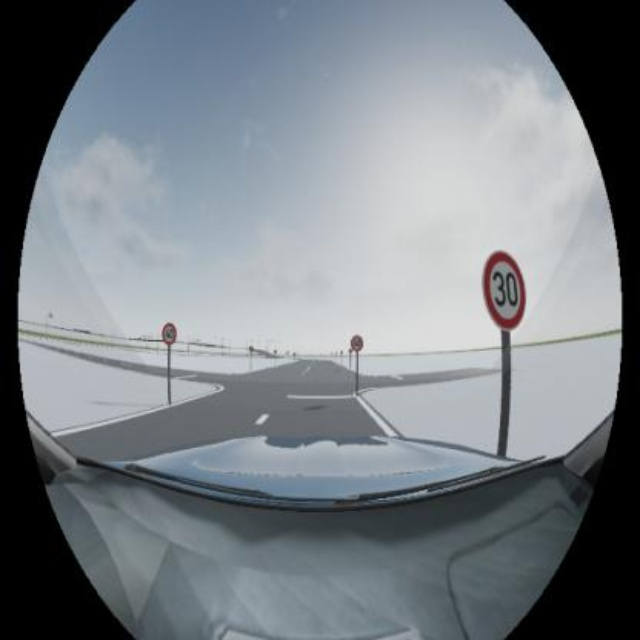Tốc độ tối đa cho phép 10km/h: (163, 323, 177, 345)
Tốc độ tối đa cho phép 30km/h: (484, 251, 527, 329)
